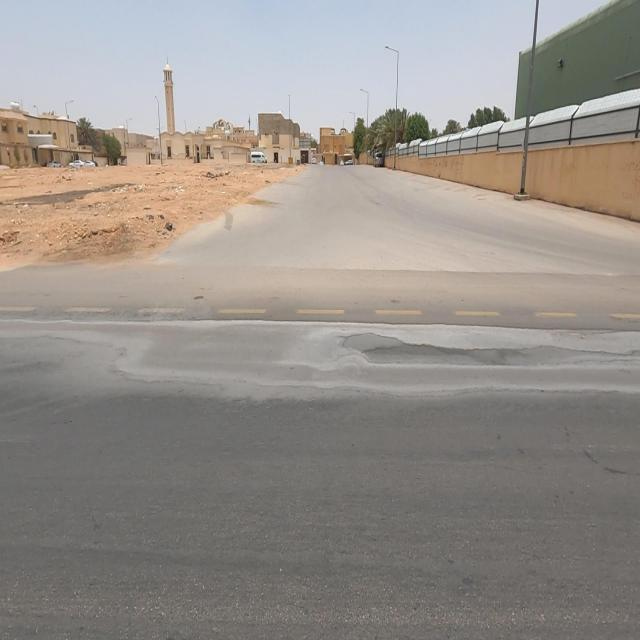debris: (151, 174, 205, 206), (123, 162, 154, 206)
